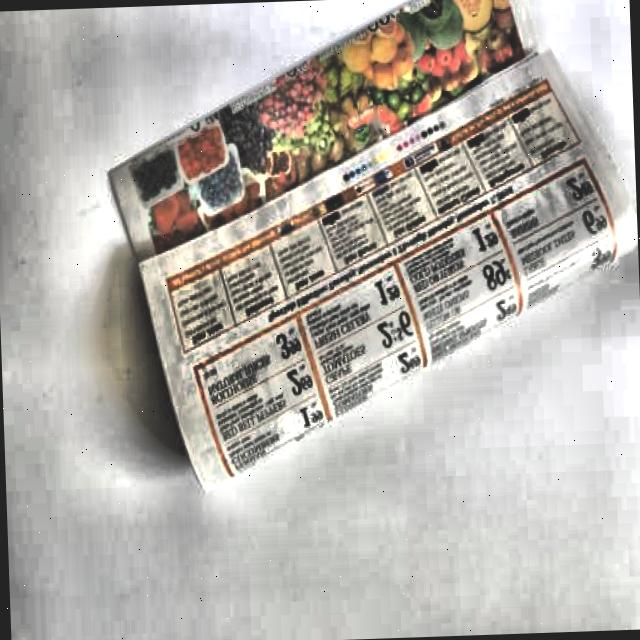paper: (111, 0, 632, 491)
